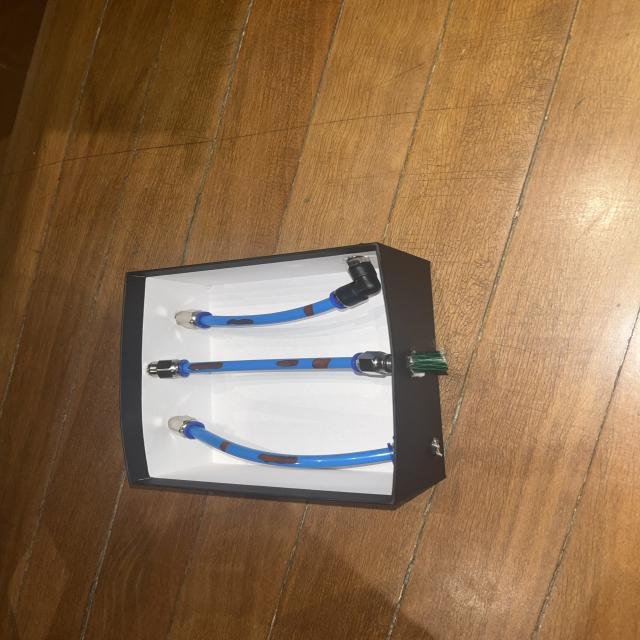hose_damage: (255, 452, 303, 466), (188, 362, 224, 371), (311, 358, 331, 370), (274, 359, 301, 367), (302, 303, 316, 318), (224, 319, 255, 325), (218, 441, 230, 452)
